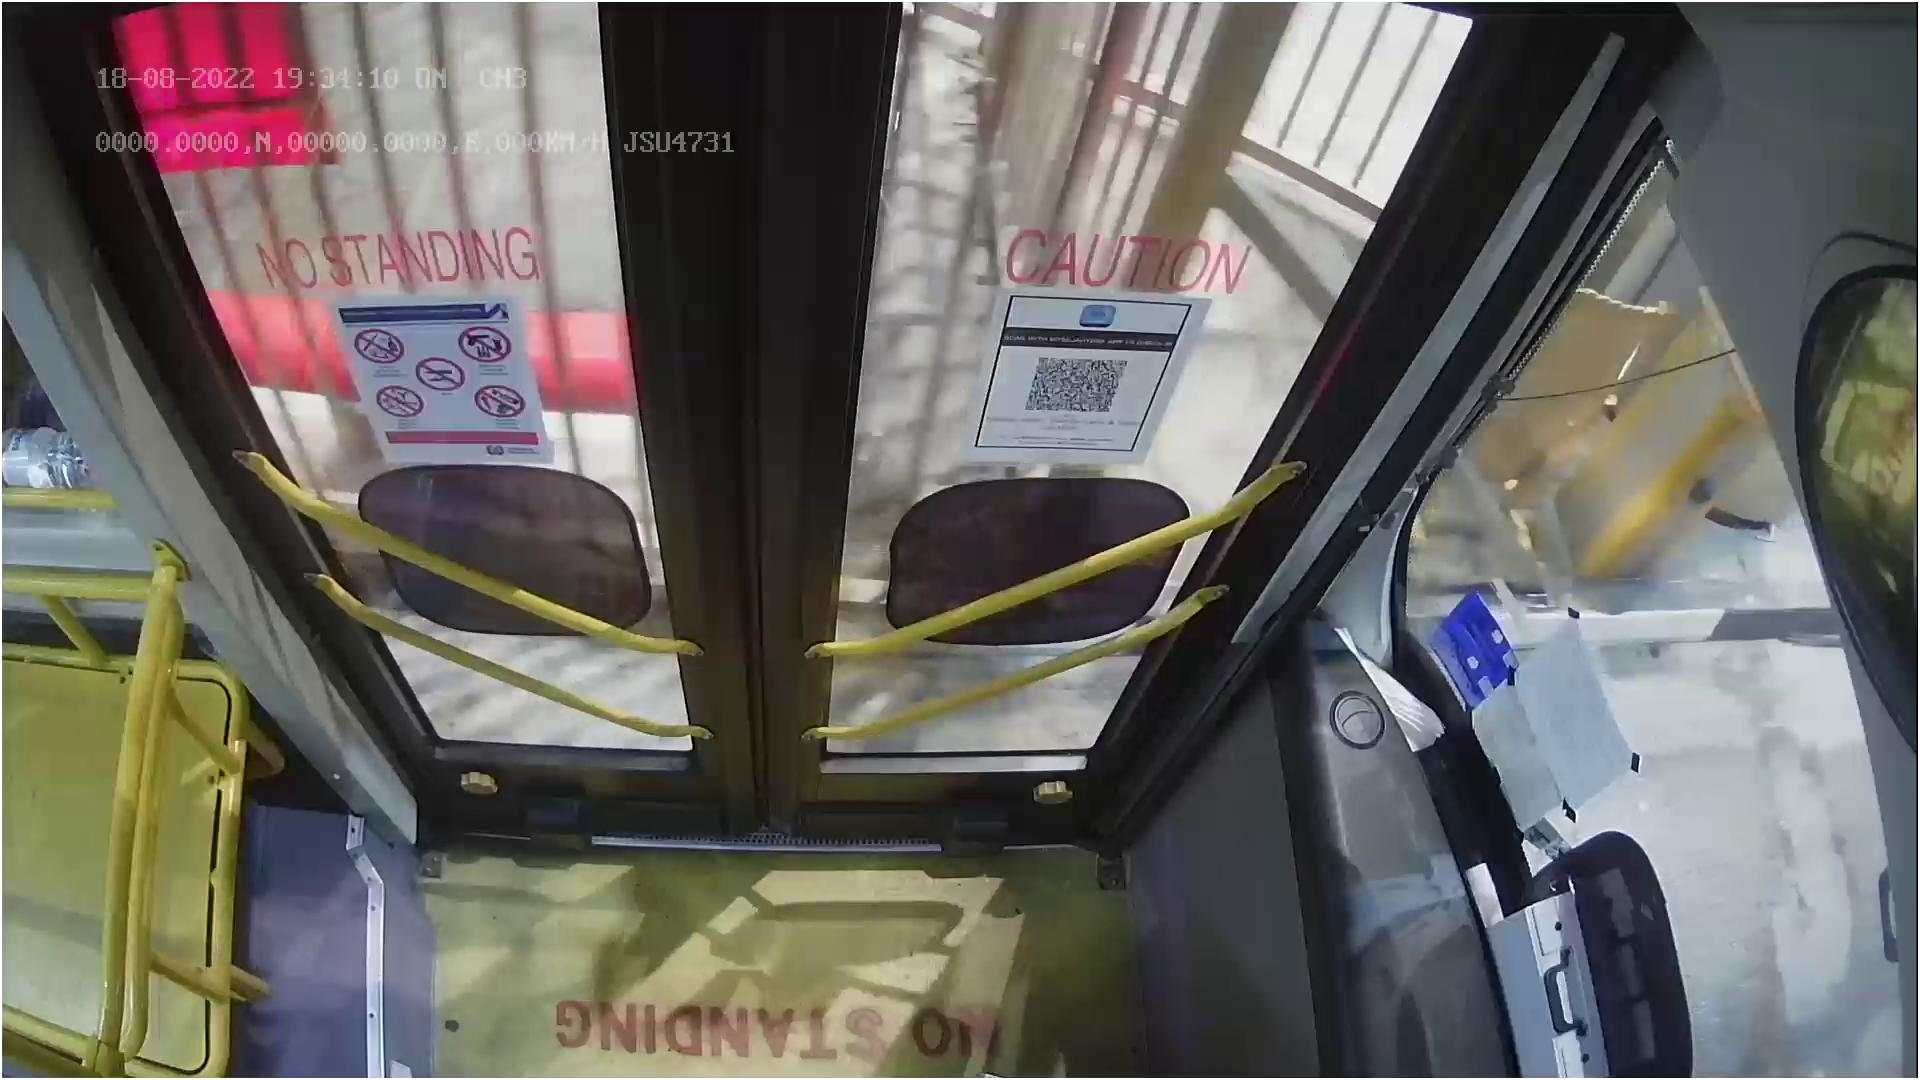close: (125, 0, 1453, 164)
